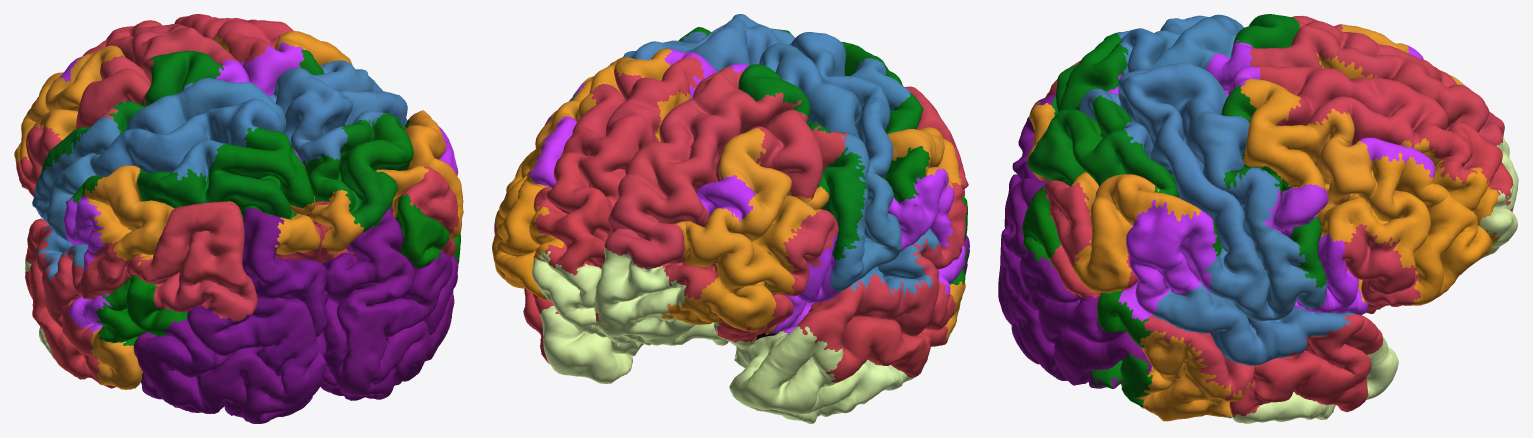
Rendered from cortex-schaefer.glb.
3 renders of one model, left to right at view 1: azimuth 30°, elevation 25°; view 2: azimuth 150°, elevation 25°; view 3: azimuth 270°, elevation 25°, orthographic. The views are drawn at different scales.
Parts seen in each view (by area): view 1: schaefer:left:12, schaefer:left:164, schaefer:left:161, schaefer:right:21, schaefer:left:52, schaefer:right:29, schaefer:left:165, schaefer:left:89, schaefer:left:31, schaefer:right:74, schaefer:left:72, schaefer:right:23 (+98 smaller); view 2: schaefer:left:124, schaefer:left:135, schaefer:left:118, schaefer:left:179, schaefer:left:176, schaefer:left:182, schaefer:right:180, schaefer:right:124, schaefer:right:185, schaefer:left:153, schaefer:right:183, schaefer:left:142 (+88 smaller); view 3: schaefer:right:142, schaefer:right:168, schaefer:right:132, schaefer:right:138, schaefer:right:100, schaefer:right:9, schaefer:right:189, schaefer:right:154, schaefer:right:166, schaefer:right:139, schaefer:right:167, schaefer:right:16 (+92 smaller).
Part boxes in pixels (x1,y1,x2,y2): schaefer:left:12: (198,349,289,423); schaefer:left:164: (182,201,244,283); schaefer:left:161: (153,269,257,321); schaefer:right:21: (341,313,409,392); schaefer:left:52: (94,131,189,176); schaefer:right:29: (349,221,414,293); schaefer:left:165: (137,202,206,283); schaefer:left:89: (145,50,223,101); schaefer:left:31: (242,207,284,286); schaefer:right:74: (395,194,449,268); schaefer:left:72: (102,275,187,336); schaefer:right:23: (324,281,388,365); schaefer:left:124: (748,326,843,414); schaefer:left:135: (700,258,794,331); schaefer:left:118: (594,247,686,324); schaefer:left:179: (627,143,713,223); schaefer:left:176: (604,196,684,268); schaefer:left:182: (751,118,823,198); schaefer:right:180: (533,196,605,275); schaefer:right:124: (532,251,601,319); schaefer:right:185: (579,123,637,195); schaefer:left:153: (797,280,865,351); schaefer:right:183: (533,152,599,217); schaefer:left:142: (719,128,773,195); schaefer:right:142: (1411,202,1481,305); schaefer:right:168: (1229,351,1329,417); schaefer:right:132: (1071,215,1131,293); schaefer:right:138: (1141,371,1250,421); schaefer:right:100: (1126,199,1183,278); schaefer:right:9: (1053,330,1152,382); schaefer:right:189: (1297,68,1400,115); schaefer:right:154: (1244,115,1325,168); schaefer:right:166: (1043,180,1092,266); schaefer:right:139: (1137,330,1207,401); schaefer:right:167: (1301,346,1371,412); schaefer:right:16: (1038,296,1126,343).
Bounding box in the file's own units: 0.1284 × 0.103 × 0.1464.
